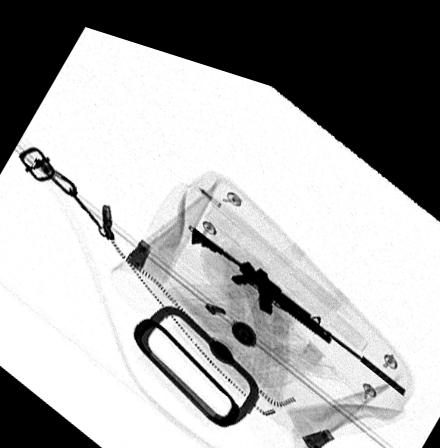Gun: (190, 214, 406, 372)
